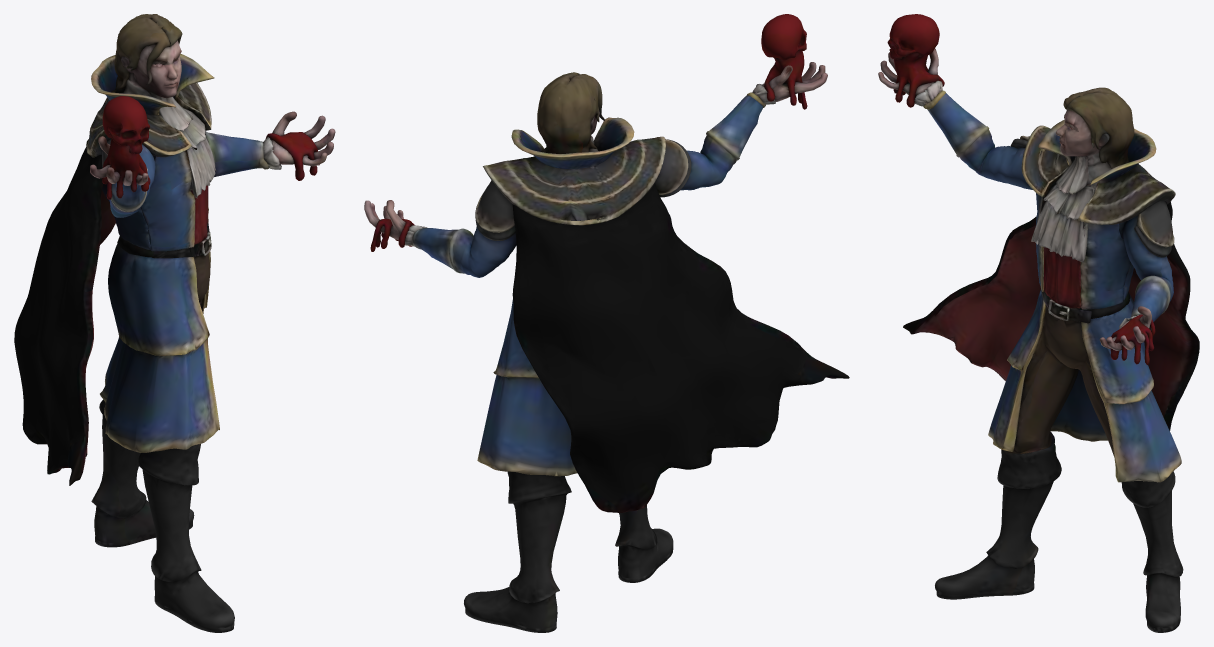
The model's file is MZ4250 - Pact Vampire 2025.glb.
The picture shows the model from 3 angles, left to right: view 1: azimuth 30°, elevation 25°; view 2: azimuth 150°, elevation 25°; view 3: azimuth 270°, elevation 25°; orthographic projection. The views are drawn at different scales.
Visible parts, largest first — view 1: Base.001; view 2: Base.001; view 3: Base.001.
Part boxes in pixels (x1,y1,x2,y2): Base.001: (14, 14, 335, 632); Base.001: (364, 14, 849, 632); Base.001: (878, 14, 1199, 632).
Size of the model in its own units: 67.25 by 95.24 by 52.56.
2 materials, 2 textured.
